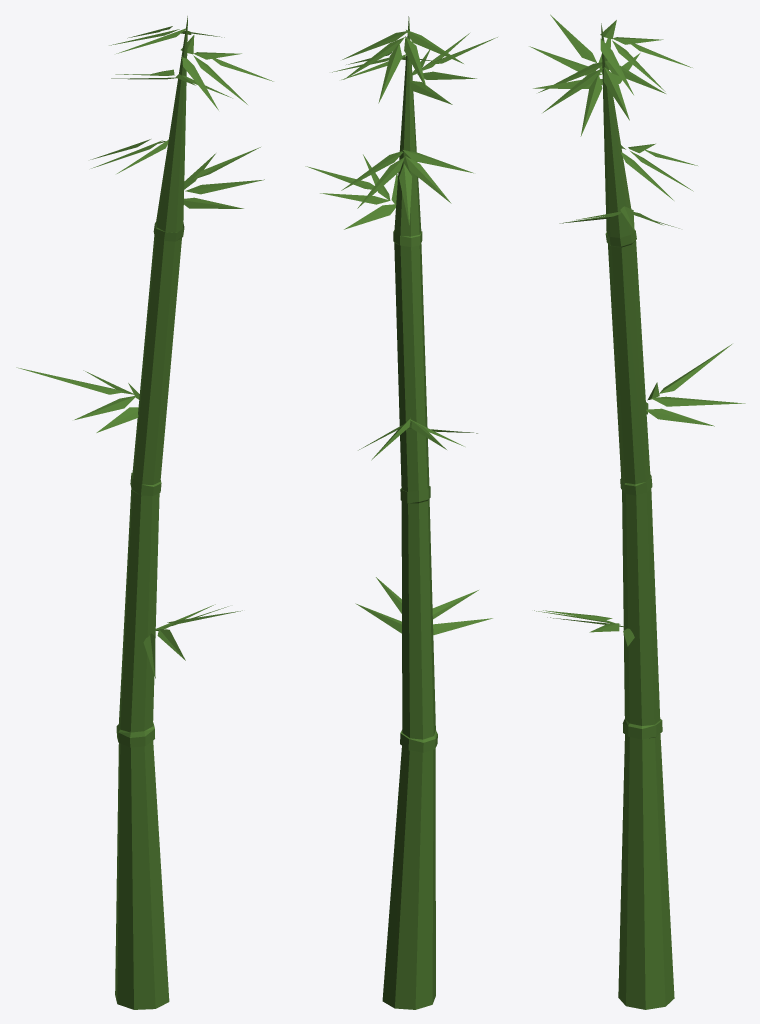
Rendered from bamboo_rostok3.fbx.
3 views of the same model, side by side, from view 1: azimuth 30°, elevation 25°; view 2: azimuth 150°, elevation 25°; view 3: azimuth 270°, elevation 25° (orthographic). The views are drawn at different scales.
Parts seen in each view (by area): view 1: bamboo_rostok3; view 2: bamboo_rostok3; view 3: bamboo_rostok3.
Boxes of the visible parts, x1,y1,x2,y2 form: bamboo_rostok3: (16,16,273,1009); bamboo_rostok3: (305,16,497,1009); bamboo_rostok3: (529,14,745,1009).
Bounding box in the file's own units: 52.24 × 251 × 50.06.
